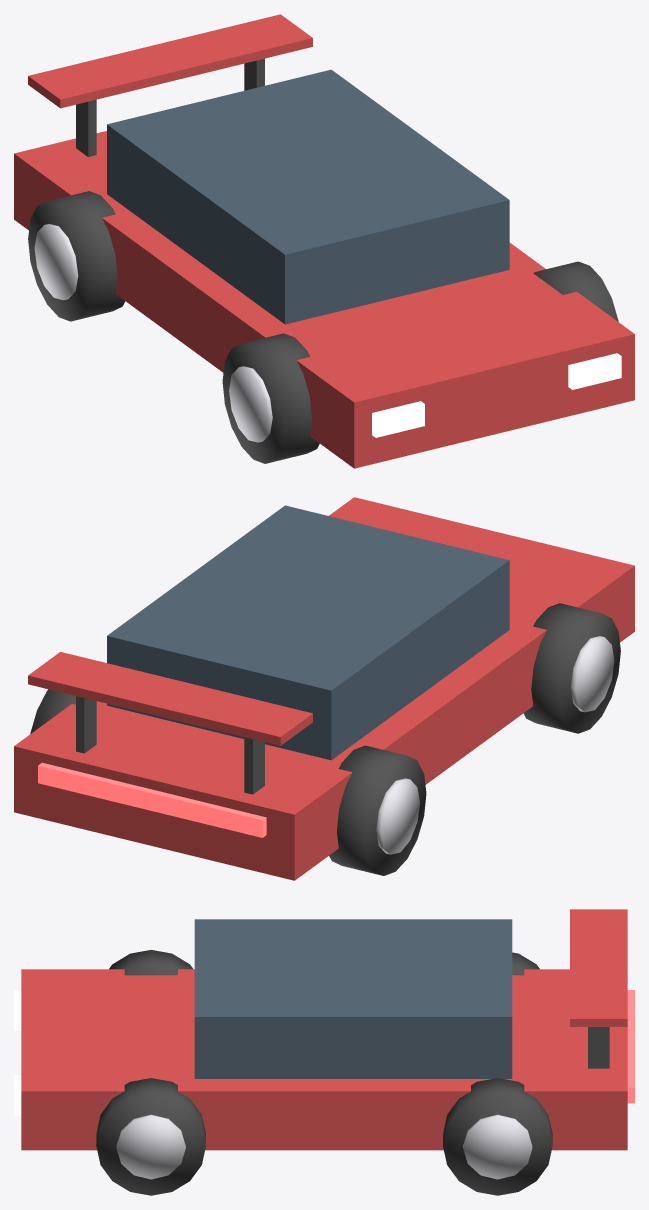
3 views of the same model, one above another, from view 1: azimuth 30°, elevation 25°; view 2: azimuth 150°, elevation 25°; view 3: azimuth 270°, elevation 25° (orthographic). The views are drawn at different scales.
Visible parts, largest first — view 1: GeneratedObject3D; view 2: GeneratedObject3D; view 3: GeneratedObject3D.
Part boxes in pixels (left/top/right/bottom): GeneratedObject3D: left=14, top=14, right=634, bottom=468; GeneratedObject3D: left=14, top=497, right=634, bottom=880; GeneratedObject3D: left=14, top=909, right=634, bottom=1195.
Size of the model in its own units: 2.47 by 1.21 by 4.3.
